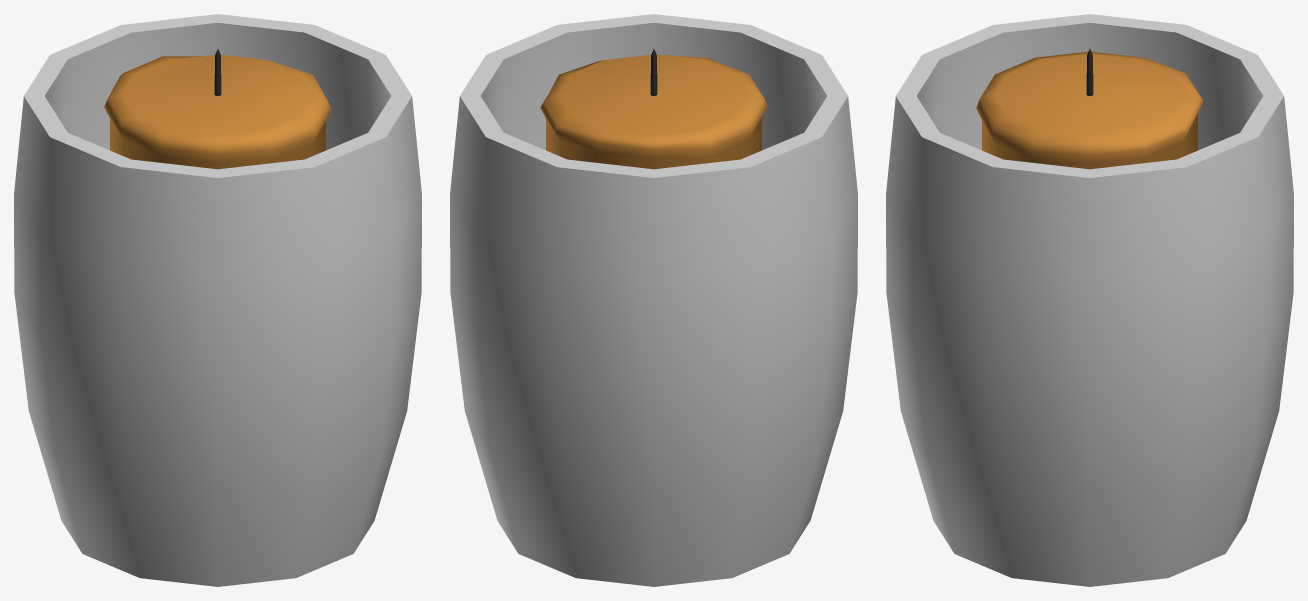
Rendered from Candle_02.fbx.
The picture shows the model from 3 angles, left to right: view 1: azimuth 30°, elevation 25°; view 2: azimuth 150°, elevation 25°; view 3: azimuth 270°, elevation 25°; orthographic projection.
Visible parts, largest first — view 1: Candle_02; view 2: Candle_02; view 3: Candle_02.
Boxes of the visible parts, x1,y1,x2,y2 form: Candle_02: (14, 14, 421, 586); Candle_02: (450, 14, 857, 586); Candle_02: (886, 14, 1293, 586).
Size of the model in its own units: 0.1572 by 0.2009 by 0.1572.
